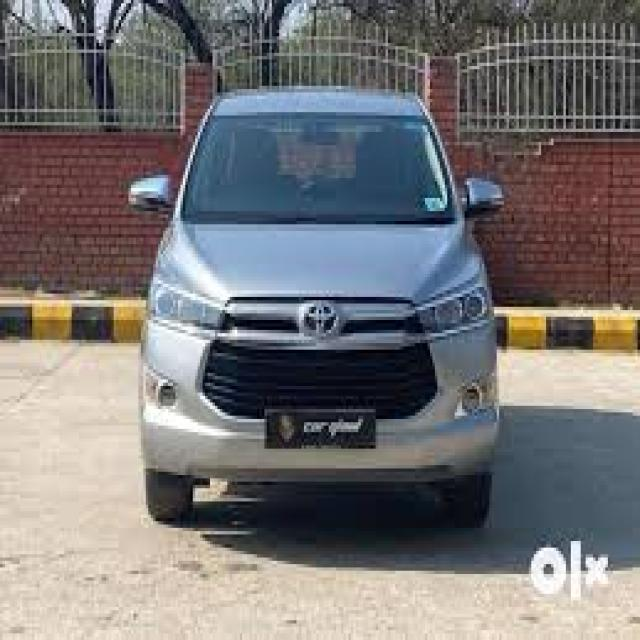cars: (123, 72, 516, 545)
